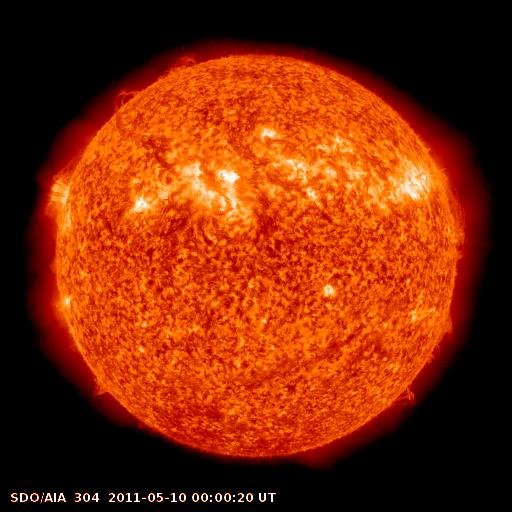prominence: (434, 166, 478, 265), (417, 309, 464, 370), (150, 49, 208, 91), (106, 81, 144, 118), (387, 382, 424, 413), (39, 248, 70, 283), (85, 368, 117, 401)
